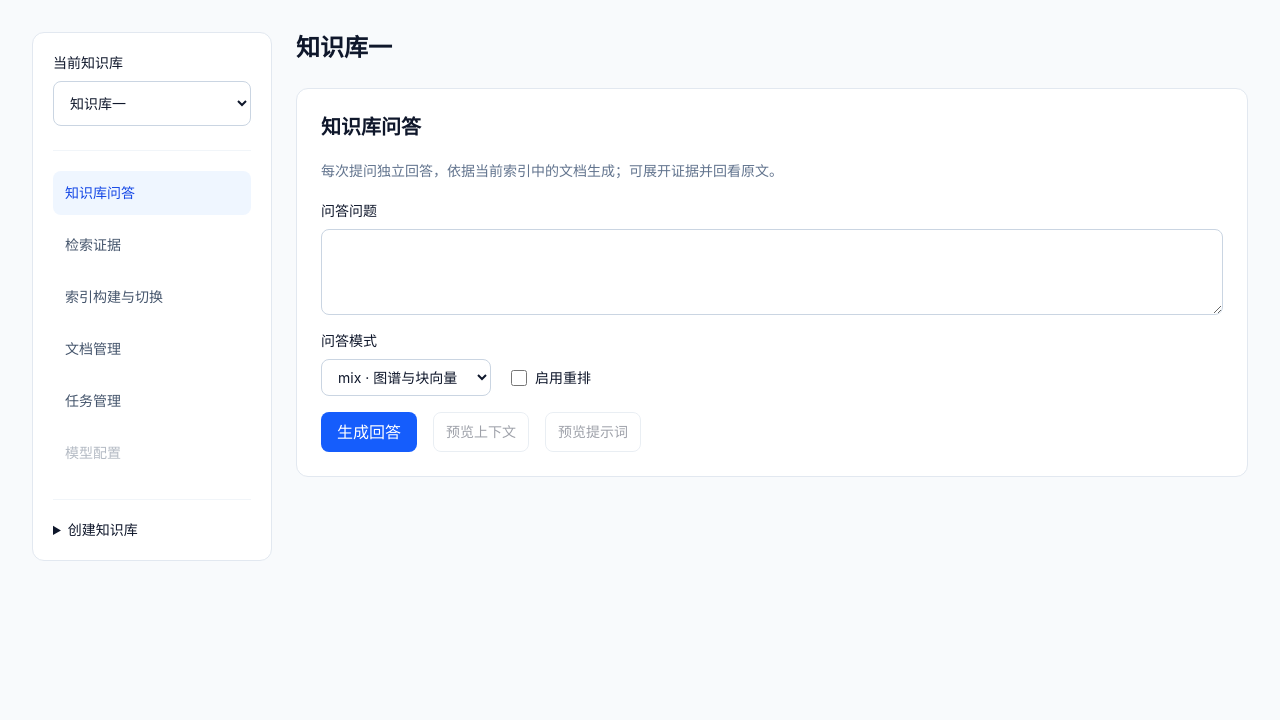
Test: persists cancellation and explicit retry through protected task requests
Click the button "任务管理" at (152, 401), box x1=53 y1=379 x2=251 y2=423
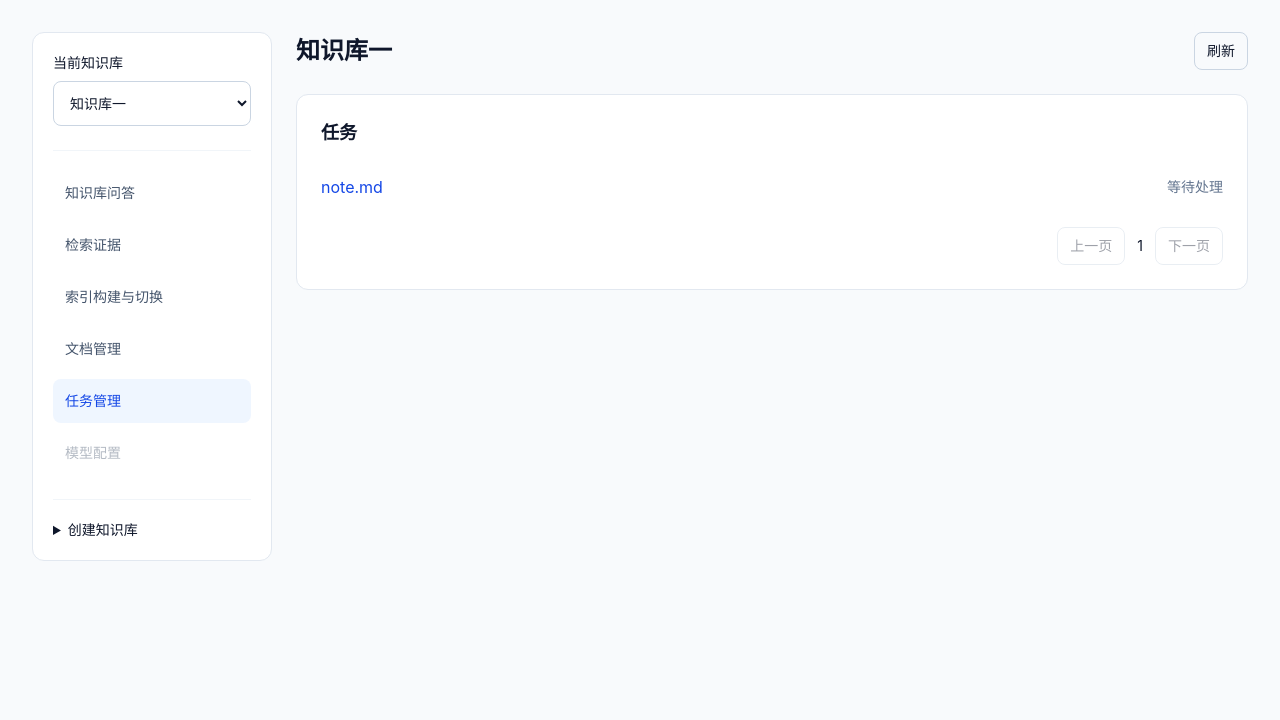
Click the button "note.md" at (352, 187), box x1=321 y1=175 x2=383 y2=199
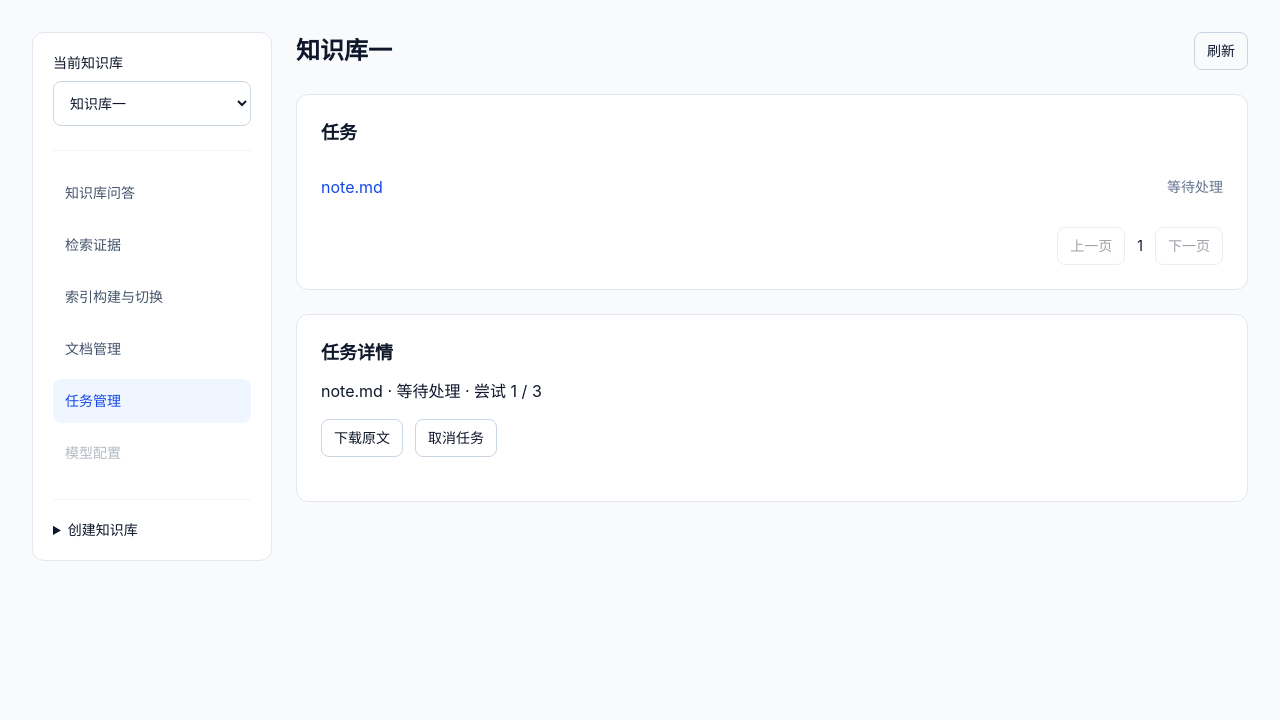
Click the button "取消任务" at (456, 438), box x1=415 y1=419 x2=497 y2=457
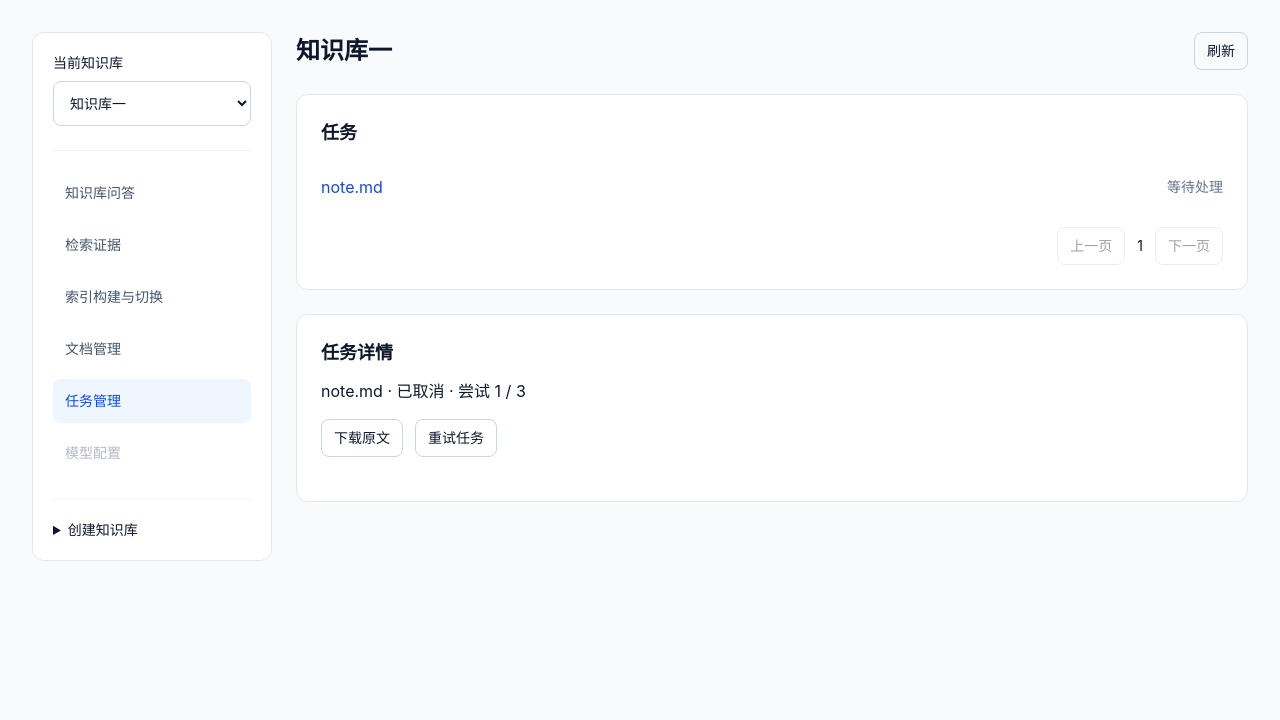
Click the button "重试任务" at (456, 438), box x1=415 y1=419 x2=497 y2=457
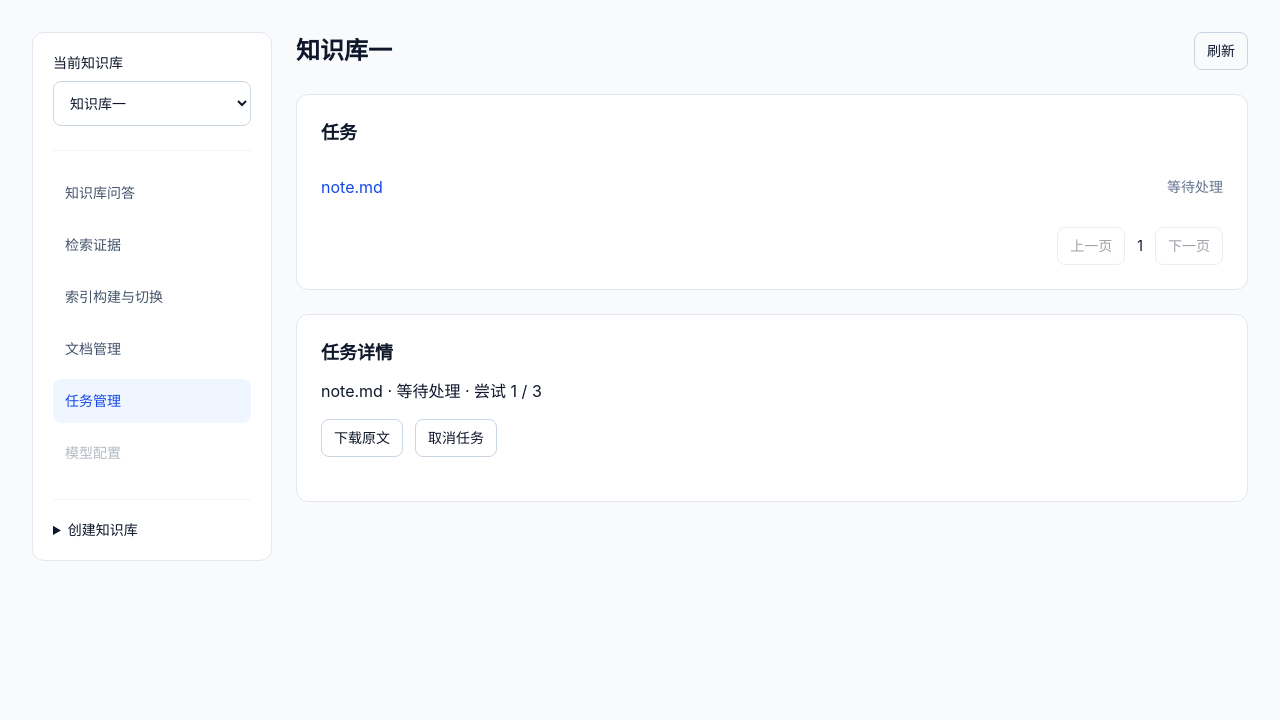
Expected: the button "取消任务" is shown, x1=415 y1=419 x2=497 y2=457
